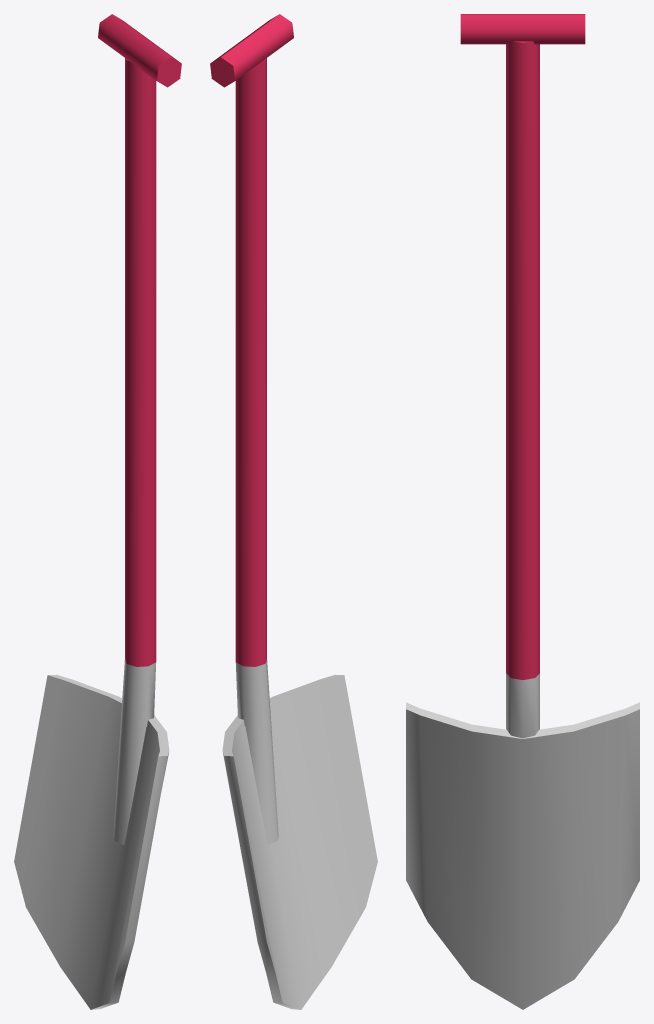
The model's file is mesh_01_01_pelle.fbx.
3 renders of one model, left to right at view 1: azimuth 30°, elevation 25°; view 2: azimuth 150°, elevation 25°; view 3: azimuth 270°, elevation 25°, orthographic. The views are drawn at different scales.
Visible parts, largest first — view 1: Cube.012; view 2: Cube.012; view 3: Cube.012.
Part boxes in pixels (<box>): Cube.012: <box>14,14,181,1009</box>; Cube.012: <box>210,14,377,1009</box>; Cube.012: <box>406,14,639,1009</box>.
Size of the model in its own units: 64.59 by 699 by 146.
